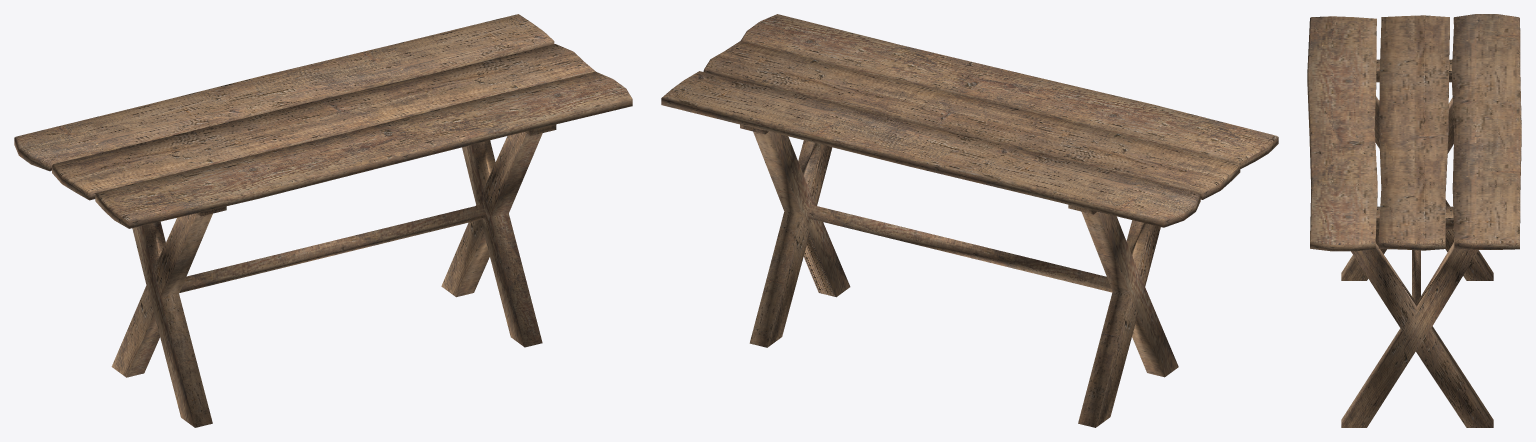
The model's file is mesaparque.obj.
3 renders of one model, left to right at view 1: azimuth 30°, elevation 25°; view 2: azimuth 150°, elevation 25°; view 3: azimuth 270°, elevation 25°, orthographic. The views are drawn at different scales.
Bounding box in the file's own units: 3.71 × 1.65 × 1.46.
1 material, 1 textured.
